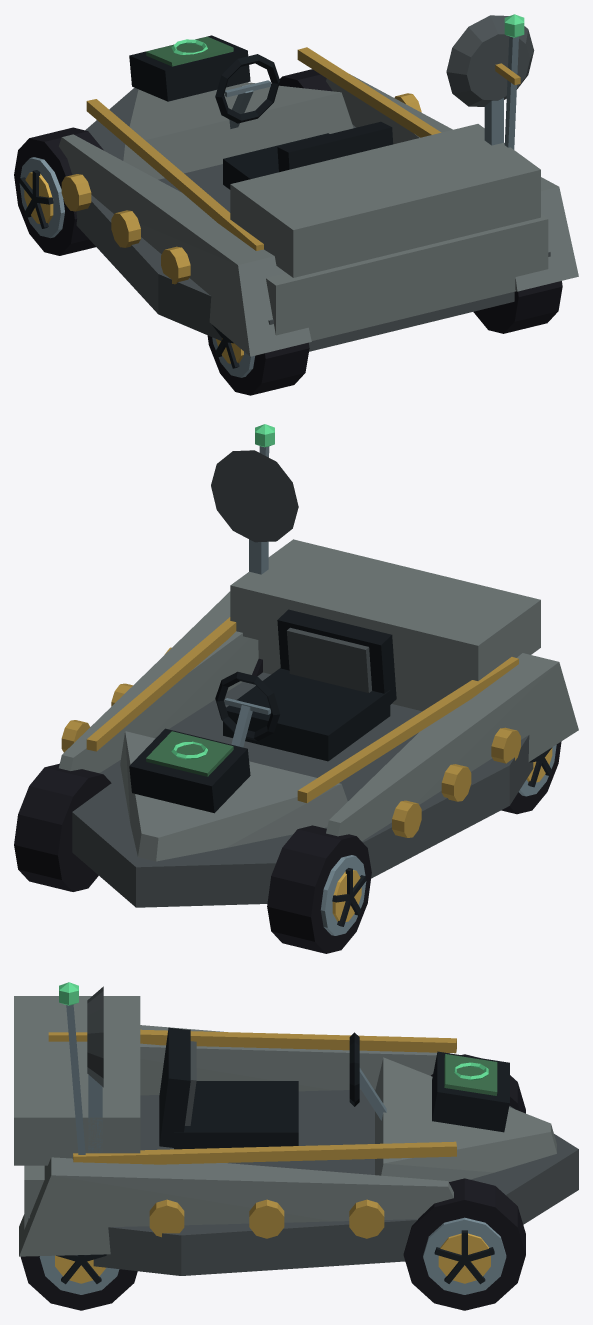
The model's file is kart.glb.
3 renders of one model, top to bottom at view 1: azimuth 30°, elevation 25°; view 2: azimuth 150°, elevation 25°; view 3: azimuth 270°, elevation 25°, orthographic.
Parts seen in each view (by area): view 1: identity-ship-ship-pointed-bow-and-raised-stern, identity-ship-driver-cockpit, wheel-front-left, identity-ship-motif-radar, identity-ship-motif-scanner, wheel-rear-left, wheel-rear-right, identity-ship-motif-antenna, wheel-front-right; view 2: identity-ship-ship-pointed-bow-and-raised-stern, identity-ship-driver-cockpit, wheel-front-left, wheel-front-right, identity-ship-motif-scanner, identity-ship-motif-radar, wheel-rear-left; view 3: identity-ship-ship-pointed-bow-and-raised-stern, identity-ship-driver-cockpit, wheel-front-right, identity-ship-motif-scanner, wheel-rear-right, identity-ship-motif-radar, identity-ship-motif-antenna.
Part boxes in pixels (bbox=[...]): identity-ship-ship-pointed-bow-and-raised-stern: bbox=[59, 47, 578, 356]; identity-ship-driver-cockpit: bbox=[215, 54, 393, 189]; wheel-front-left: bbox=[14, 127, 103, 255]; identity-ship-motif-radar: bbox=[446, 15, 534, 145]; identity-ship-motif-scanner: bbox=[129, 35, 250, 101]; wheel-rear-left: bbox=[207, 325, 309, 395]; wheel-rear-right: bbox=[473, 281, 562, 333]; identity-ship-motif-antenna: bbox=[504, 14, 524, 149]; wheel-front-right: bbox=[279, 69, 332, 91]; identity-ship-ship-pointed-bow-and-raised-stern: bbox=[59, 539, 578, 907]; identity-ship-driver-cockpit: bbox=[215, 609, 396, 761]; wheel-front-left: bbox=[267, 825, 371, 953]; wheel-front-right: bbox=[14, 763, 111, 891]; identity-ship-motif-scanner: bbox=[129, 728, 250, 813]; identity-ship-motif-radar: bbox=[211, 450, 298, 574]; wheel-rear-left: bbox=[501, 741, 561, 814]; identity-ship-ship-pointed-bow-and-raised-stern: bbox=[14, 996, 578, 1275]; identity-ship-driver-cockpit: bbox=[159, 1027, 386, 1149]; wheel-front-right: bbox=[403, 1178, 525, 1310]; identity-ship-motif-scanner: bbox=[432, 1051, 509, 1132]; wheel-rear-right: bbox=[20, 1254, 137, 1310]; identity-ship-motif-radar: bbox=[48, 986, 103, 1153]; identity-ship-motif-antenna: bbox=[59, 982, 85, 1154].
Size of the model in its own units: 2 by 1.72 by 2.77.
